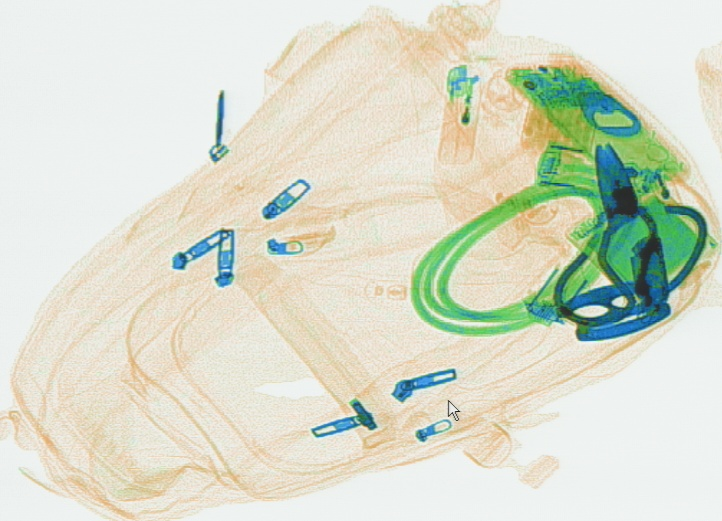lighter: (434, 60, 482, 168)
scissors: (553, 139, 705, 325)
